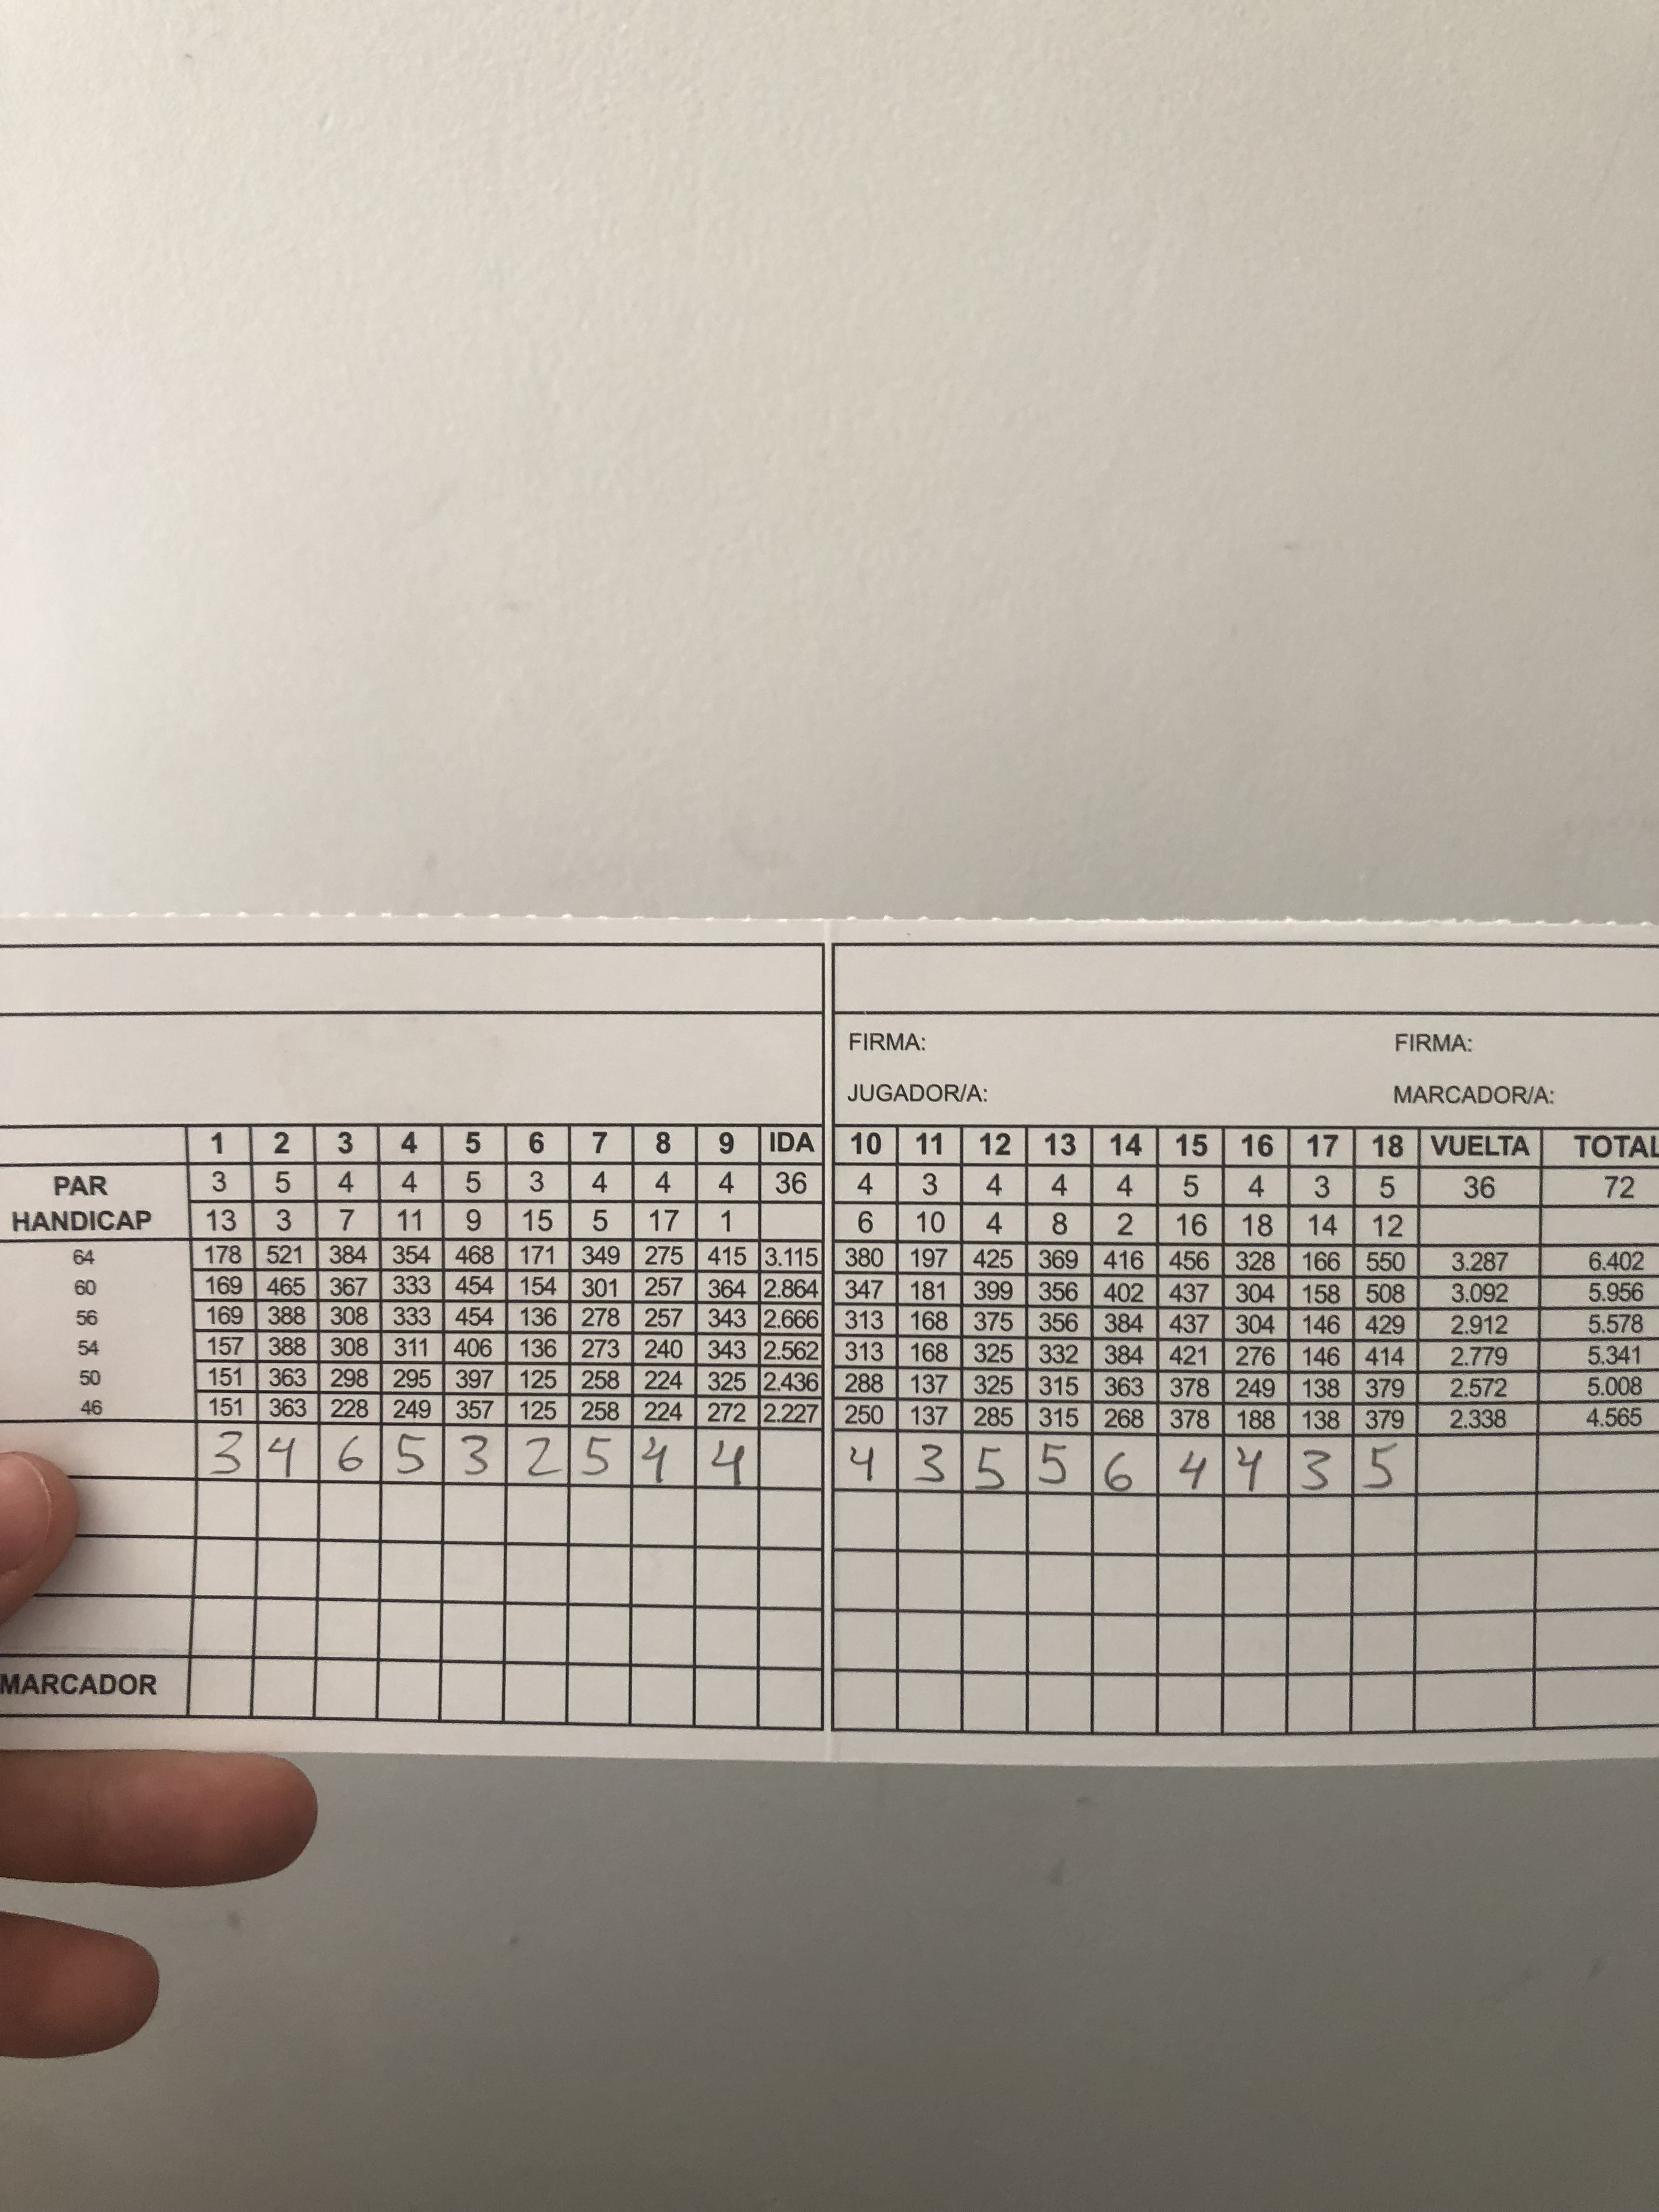par: (17, 1160, 1647, 1209)
score: (197, 1430, 1408, 1494)
